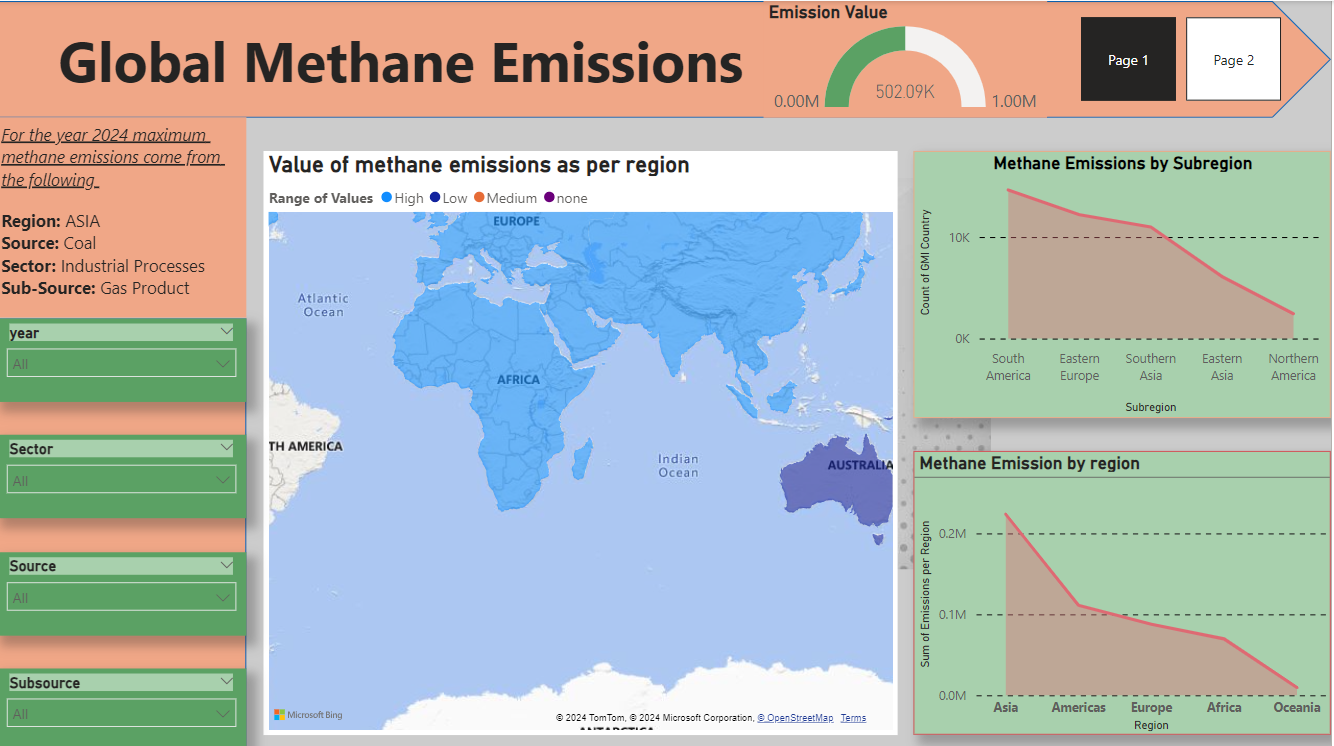

The dashboard page shown, as its layout file describes it:
{"tool":"powerbi","page":{"name":"Page 1","canvas":[1280,720],"ordinal":0},"visuals":[{"type":"areaChart","title":"Methane Emissions by Subregion","fields":{"Category":["gmimethane.Subregion"],"Y":["CountNonNull(gmimethane.GMI Country)"]},"box":[864,144,416,256],"z":0},{"type":"shape","box":[0,0,1280,112],"z":1000},{"type":"textbox","box":[0,16,784,80],"z":2000},{"type":"stackedAreaChart","title":"Methane Emission by region","fields":{"Category":["gmimethane.Region"],"Y":["gmimethane.Sum of Emissions per Region"]},"box":[864,432,416,272],"z":3000},{"type":"filledMap","title":"Value of methane emissions as per region","fields":{"Series":["gmimethane.Range of Values"],"Category":["gmimethane.Region"]},"box":[256,144,608,560],"z":4000},{"type":"shape","box":[0,304,240,416],"z":5000},{"type":"slicer","fields":{"Values":["gmimethane.year"]},"box":[0,304,240,80],"z":6000},{"type":"slicer","fields":{"Values":["gmimethane.EPA-Report-sector"]},"box":[0,416,240,80],"z":7000},{"type":"slicer","fields":{"Values":["gmimethane.EPA-Report-source"]},"box":[0,528,240,80],"z":8000},{"type":"slicer","fields":{"Values":["gmimethane.EPA-Report-subsource"]},"box":[0,640,240,80],"z":9000},{"type":"pageNavigator","box":[1040,16,192,80],"z":10000},{"type":"textbox","box":[0,112,240,192],"z":12000},{"type":"gauge","title":"Emission Value","fields":{"Y":["Sum(gmimethane.value)"]},"box":[736,0,272,112],"z":13000}]}

Visuals, with their boxes in screenshot pixels (x1, y1, x2, y2), scaled from the page's 1280x720 canvas onto the 1334x746 screenshot:
"Methane Emissions by Subregion" areaChart: bbox(900, 149, 1333, 414)
shape: bbox(0, 0, 1333, 116)
textbox: bbox(0, 17, 817, 99)
"Methane Emission by region" stackedAreaChart: bbox(900, 448, 1333, 729)
"Value of methane emissions as per region" filledMap: bbox(267, 149, 900, 729)
shape: bbox(0, 315, 250, 745)
slicer - gmimethane.year: bbox(0, 315, 250, 398)
slicer - gmimethane.EPA-Report-sector: bbox(0, 431, 250, 514)
slicer - gmimethane.EPA-Report-source: bbox(0, 547, 250, 630)
slicer - gmimethane.EPA-Report-subsource: bbox(0, 663, 250, 745)
pageNavigator: bbox(1084, 17, 1284, 99)
textbox: bbox(0, 116, 250, 315)
"Emission Value" gauge: bbox(767, 0, 1051, 116)
